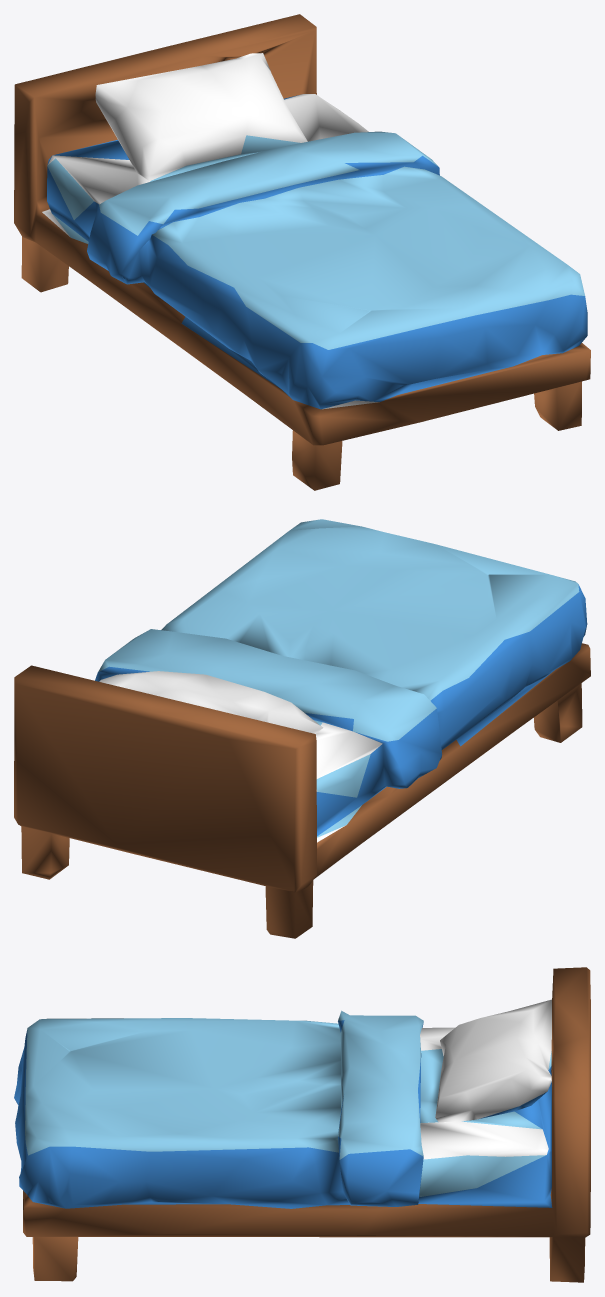
File: SM_prop_bed_single.glb
The picture shows the model from 3 angles, top to bottom: view 1: azimuth 30°, elevation 25°; view 2: azimuth 150°, elevation 25°; view 3: azimuth 270°, elevation 25°; orthographic projection. The views are drawn at different scales.
Visible parts, largest first — view 1: SM_prop_bed_single; view 2: SM_prop_bed_single; view 3: SM_prop_bed_single.
Boxes of the visible parts, x1,y1,x2,y2 form: SM_prop_bed_single: (14, 14, 590, 490); SM_prop_bed_single: (14, 519, 590, 938); SM_prop_bed_single: (14, 967, 590, 1282).
Bounding box in the file's own units: 1.03 × 0.6 × 1.67.
Materials: 1 (1 with a texture image).
